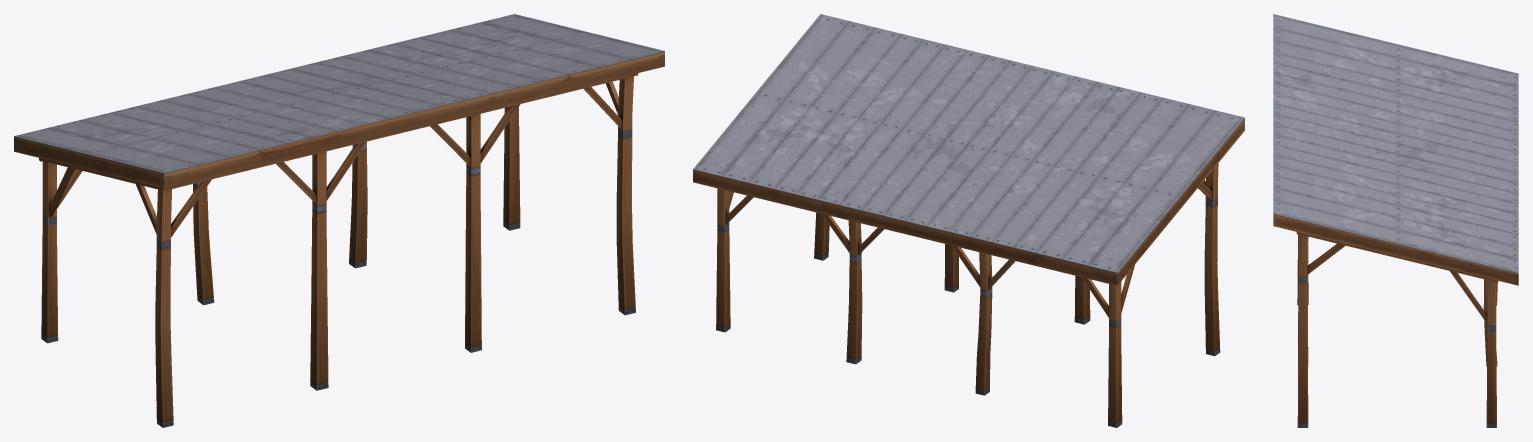
Rendered from Awning01_1.FBX.
3 renders of one model, left to right at view 1: azimuth 30°, elevation 25°; view 2: azimuth 150°, elevation 25°; view 3: azimuth 270°, elevation 25°, orthographic. The views are drawn at different scales.
Parts seen in each view (by area): view 1: Awning01_1; view 2: Awning01_1; view 3: Awning01_1.
Part boxes in pixels (bbox=[...]): Awning01_1: bbox=[14, 14, 664, 427]; Awning01_1: bbox=[693, 14, 1244, 427]; Awning01_1: bbox=[1273, 14, 1518, 427].
Size of what is drawn, in the model's own units: 6.5 by 3.34 by 3.38.
